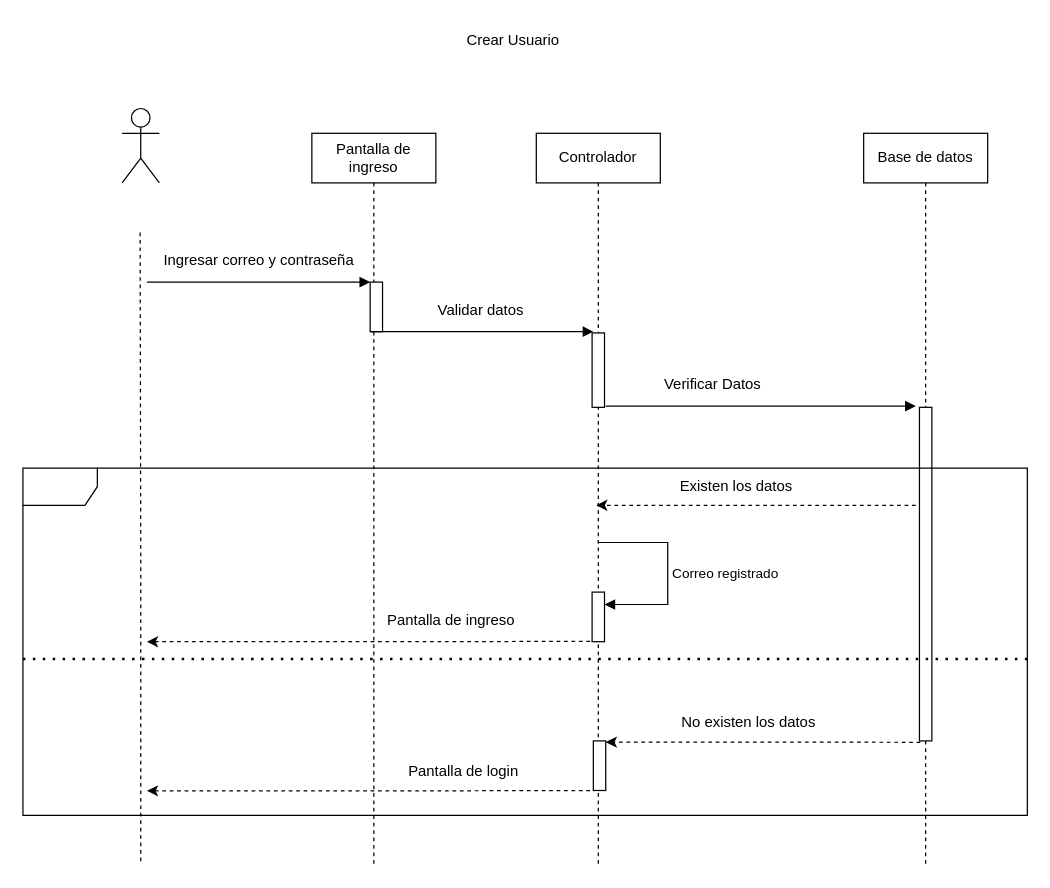
The diagram is 1050 pixels wide and 888 high, and some of its shapes have lost their labels. Here are the shapes that lost their labels. From the top down, the box of each, then its label:
(121, 107, 159, 183): Usuario
(22, 467, 1027, 815): alt
